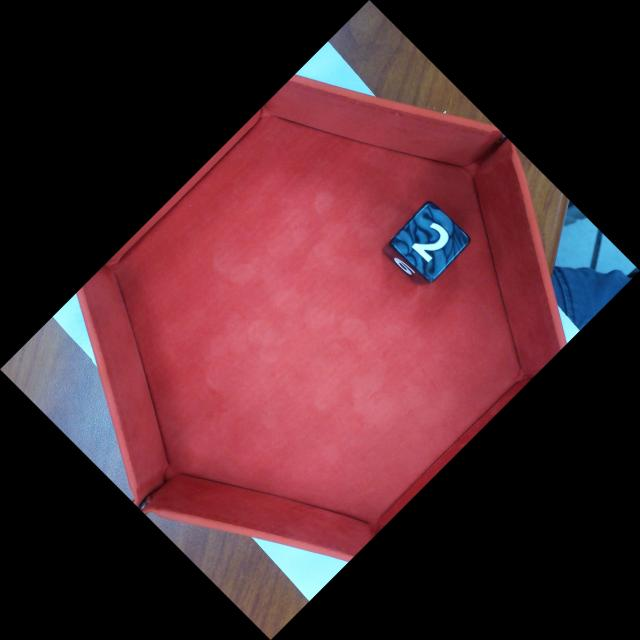dice: (393, 205, 469, 280)
